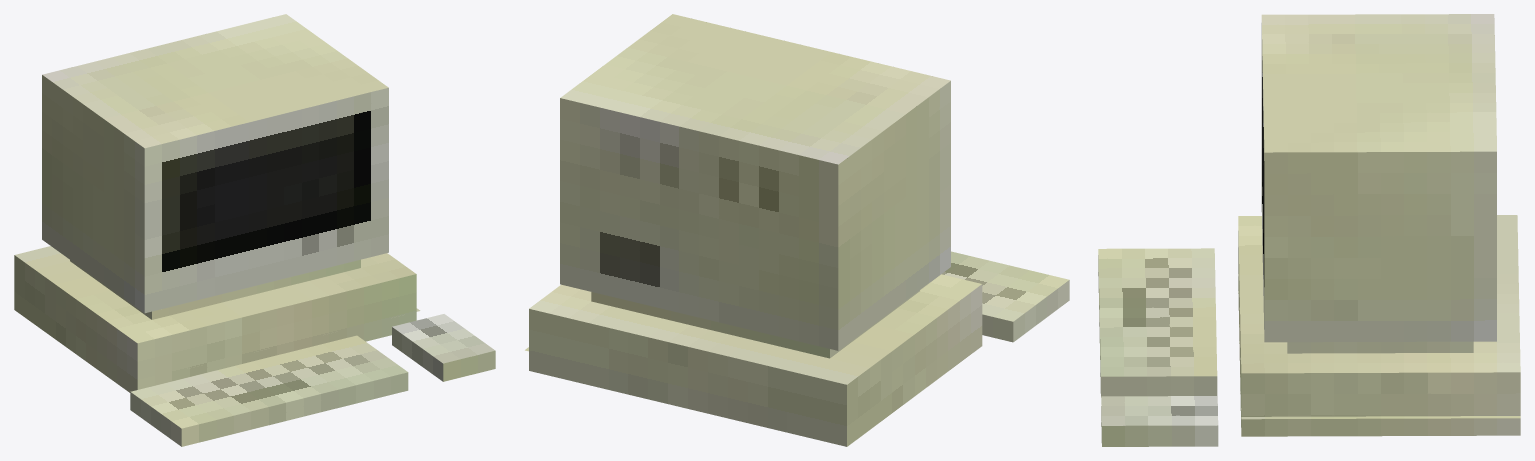
The model's file is computer.glb.
3 renders of one model, left to right at view 1: azimuth 30°, elevation 25°; view 2: azimuth 150°, elevation 25°; view 3: azimuth 270°, elevation 25°, orthographic. The views are drawn at different scales.
Visible parts, largest first — view 1: Object_12.001; view 2: Object_12.001; view 3: Object_12.001.
Boxes of the visible parts, <box> form: Object_12.001: <box>14,14,495,446</box>; Object_12.001: <box>525,14,1069,446</box>; Object_12.001: <box>1098,14,1520,446</box>.
Size of the model in its own units: 14.04 by 10.11 by 14.12.
10 materials, 10 textured.
